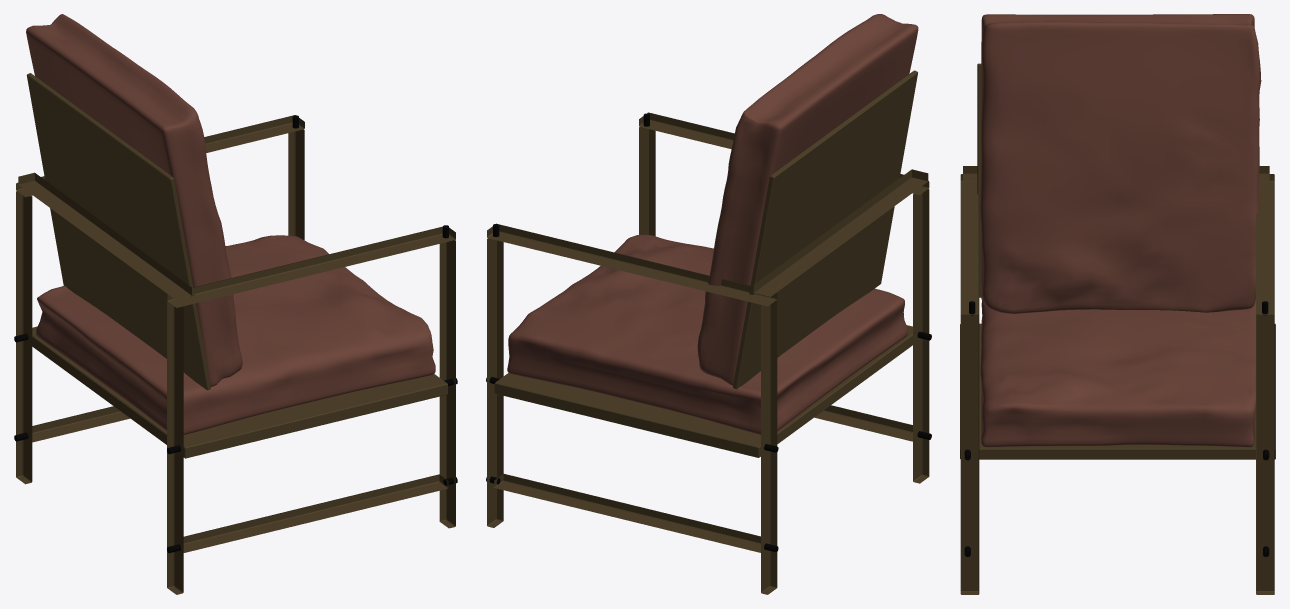
The model's file is Chair.fbx.
3 renders of one model, left to right at view 1: azimuth 30°, elevation 25°; view 2: azimuth 150°, elevation 25°; view 3: azimuth 270°, elevation 25°, orthographic. The views are drawn at different scales.
Visible parts, largest first — view 1: Cube.024, Cube.022, Cube.025, Cube.013, Cube.017, Cube.021, Cube.020, Cube.019, Cube.018, Cube.023, Cube.015, Cube.016 (+1 smaller); view 2: Cube.024, Cube.022, Cube.025, Cube.013, Cube.021, Cube.017, Cube.016, Cube.015, Cube.014, Cube.023, Cube.019, Cube.020 (+1 smaller); view 3: Cube.025, Cube.024, Cube.019, Cube.015, Cube.013, Cube.020, Cube.016, Cube.022.
Boxes of the visible parts, x1,y1,x2,y2 form: Cube.024: (36,235,435,434); Cube.022: (26,73,210,390); Cube.025: (26,14,242,386); Cube.013: (32,326,447,458); Cube.017: (16,191,32,484); Cube.021: (167,302,183,594); Cube.020: (167,226,455,307); Cube.019: (439,240,455,528); Cube.018: (183,474,448,552); Cube.023: (18,172,191,299); Cube.015: (288,129,304,240); Cube.016: (16,115,304,197); Cube.024: (507,234,908,434); Cube.022: (733,70,917,389); Cube.025: (697,14,918,385); Cube.013: (494,325,912,457); Cube.021: (913,189,929,483); Cube.017: (761,300,777,594); Cube.016: (487,223,777,306); Cube.015: (487,238,503,527); Cube.014: (494,473,760,552); Cube.023: (754,169,928,296); Cube.019: (639,127,655,236); Cube.020: (639,112,929,194); Cube.025: (980,14,1261,313); Cube.024: (980,298,1255,447); Cube.019: (960,314,979,594); Cube.015: (1256,314,1274,594); Cube.013: (960,323,1275,459); Cube.020: (960,174,979,314); Cube.016: (1256,174,1274,314); Cube.022: (977,63,981,297).
Bounding box in the file's own units: 205 × 319 × 200.
